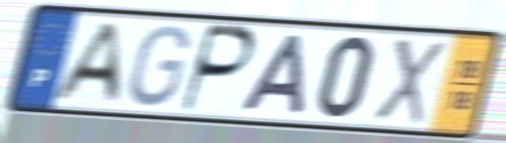0: (314, 33, 378, 121)
A: (46, 21, 125, 107), (238, 31, 308, 117)
G: (126, 23, 193, 110)
P: (177, 21, 259, 116)
X: (370, 35, 448, 127)
